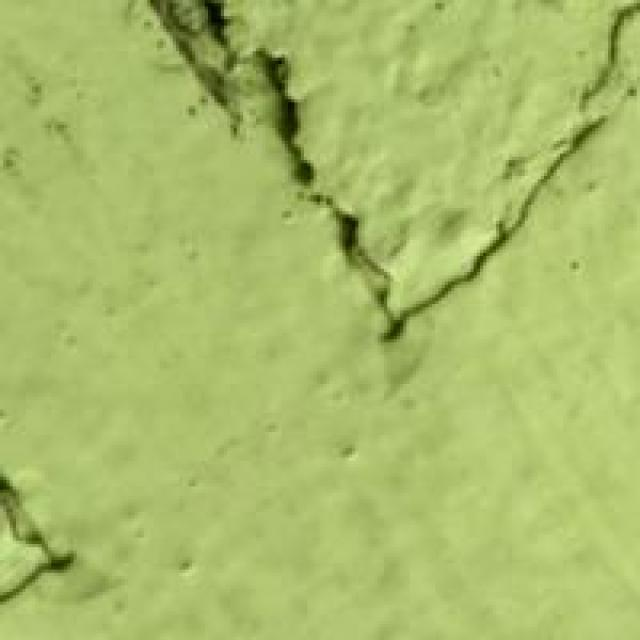crack: (104, 0, 640, 348), (0, 480, 108, 610)
